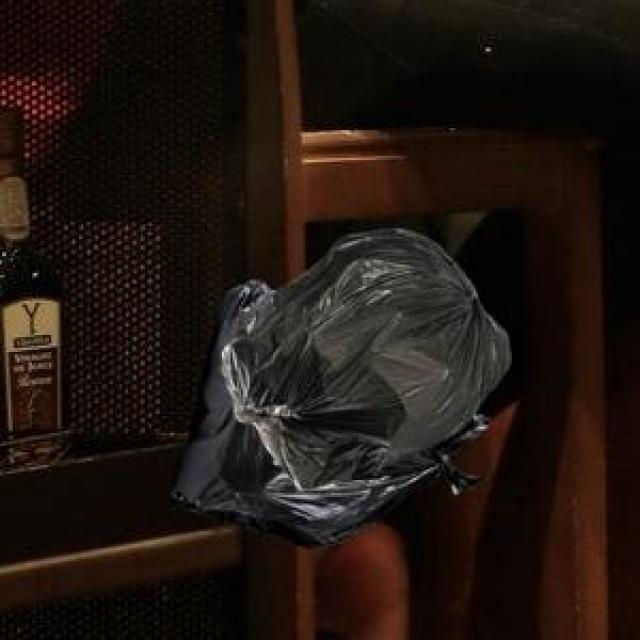waste: (175, 229, 511, 543)
